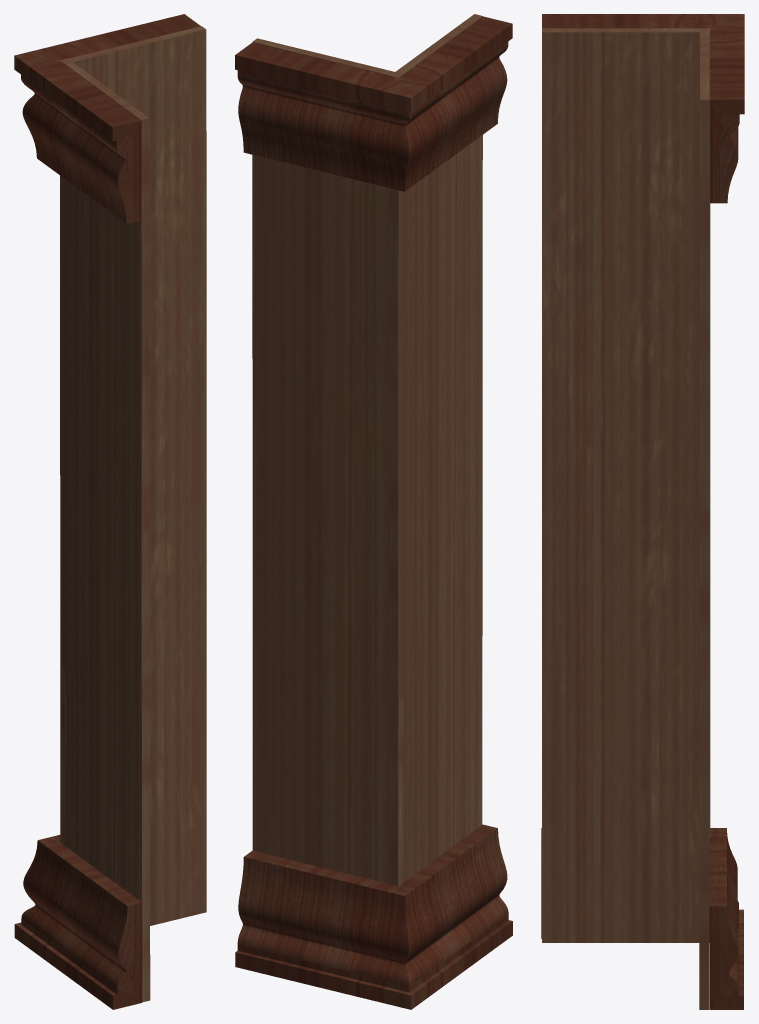
The model's file is DTYDFittings.fbx_CornerWithBaseBoards.fbx.
The picture shows the model from 3 angles, left to right: view 1: azimuth 30°, elevation 25°; view 2: azimuth 150°, elevation 25°; view 3: azimuth 270°, elevation 25°; orthographic projection. The views are drawn at different scales.
Parts seen in each view (by area): view 1: Cube.097, Cube.096, Cube.095, Cube.094; view 2: Cube.096, Cube.097, Cube.094, Cube.095; view 3: Cube.097, Cube.096, Cube.095, Cube.094.
Part boxes in pixels (bbox=[...]): Cube.097: bbox=[60, 58, 150, 1002]; Cube.096: bbox=[60, 26, 206, 925]; Cube.095: bbox=[14, 14, 200, 224]; Cube.094: bbox=[14, 835, 142, 1009]; Cube.096: bbox=[252, 38, 403, 885]; Cube.097: bbox=[389, 14, 482, 886]; Cube.094: bbox=[235, 824, 512, 1009]; Cube.095: bbox=[235, 16, 512, 191]; Cube.097: bbox=[542, 28, 710, 942]; Cube.096: bbox=[699, 28, 709, 1009]; Cube.095: bbox=[542, 14, 744, 203]; Cube.094: bbox=[541, 828, 743, 1009].
Bounding box in the file's own units: 209 × 1033 × 209.
Materials: 2 (2 with a texture image).
